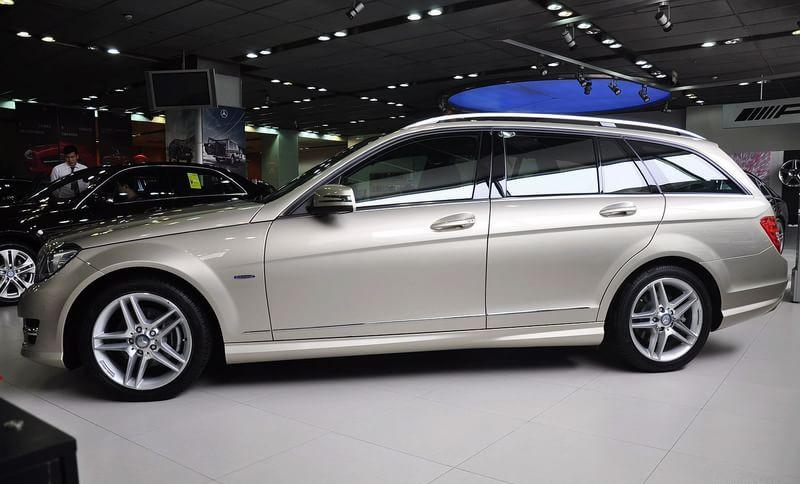Wagon: (15, 111, 790, 402)
